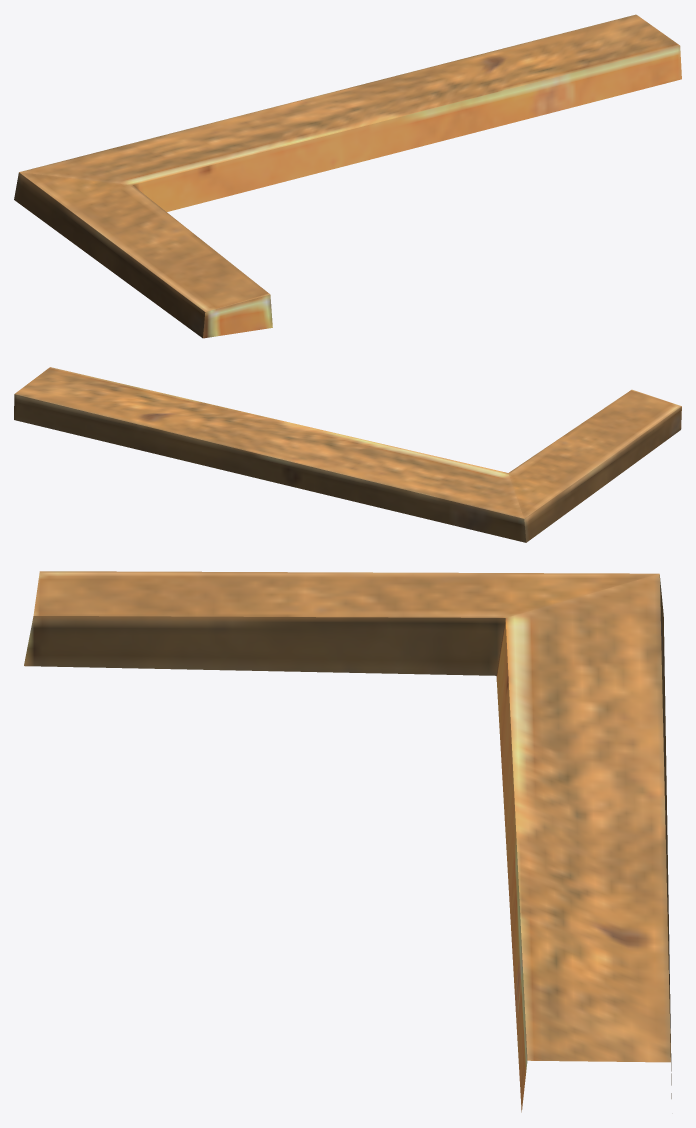
The model's file is Slab_zigzag_2.fbx.
3 views of the same model, one above another, from view 1: azimuth 30°, elevation 25°; view 2: azimuth 150°, elevation 25°; view 3: azimuth 270°, elevation 25° (orthographic). The views are drawn at different scales.
Parts seen in each view (by area): view 1: fundament_2; view 2: fundament_2; view 3: fundament_2.
Part boxes in pixels (<box>): fundament_2: <box>14,14,681,338</box>; fundament_2: <box>14,367,681,542</box>; fundament_2: <box>24,571,671,1112</box>.
Bounding box in the file's own units: 3.38 × 0.1704 × 1.86.
